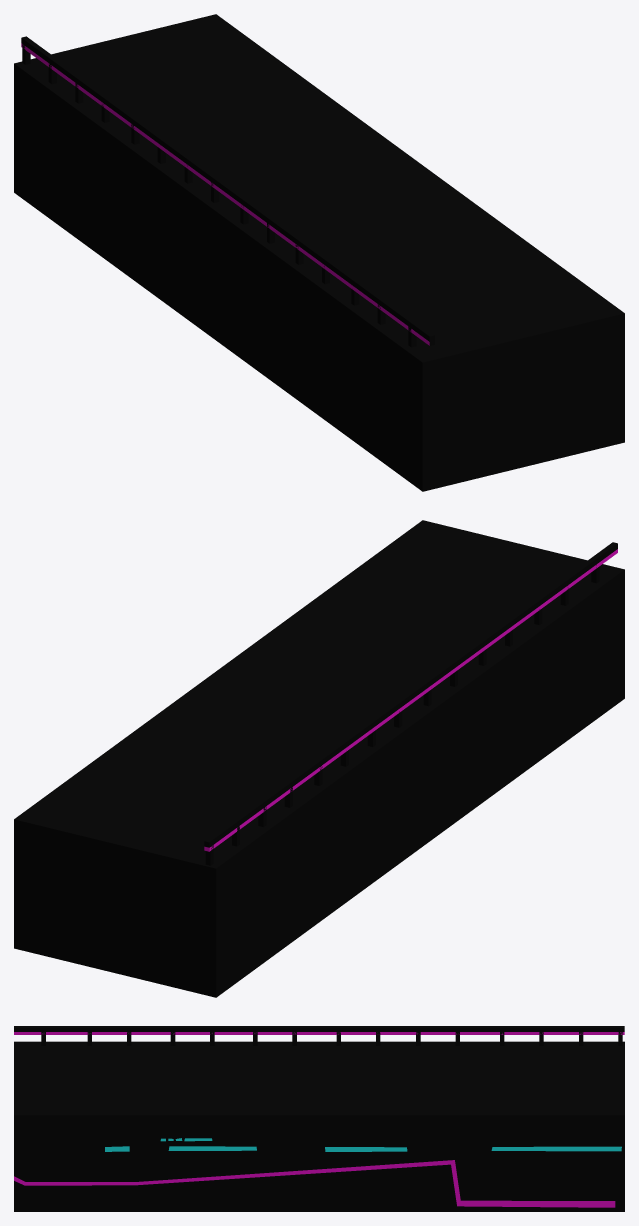
File: tile7.fbx
3 renders of one model, top to bottom at view 1: azimuth 30°, elevation 25°; view 2: azimuth 150°, elevation 25°; view 3: azimuth 270°, elevation 25°, orthographic. The views are drawn at different scales.
Parts seen in each view (by area): view 1: Cube.132; view 2: Cube.132; view 3: Cube.132.
Boxes of the visible parts, <box> form: Cube.132: <box>14,14,624,491</box>; Cube.132: <box>14,520,624,997</box>; Cube.132: <box>14,1026,624,1211</box>.
Bounding box in the file's own units: 200 × 145 × 700.
